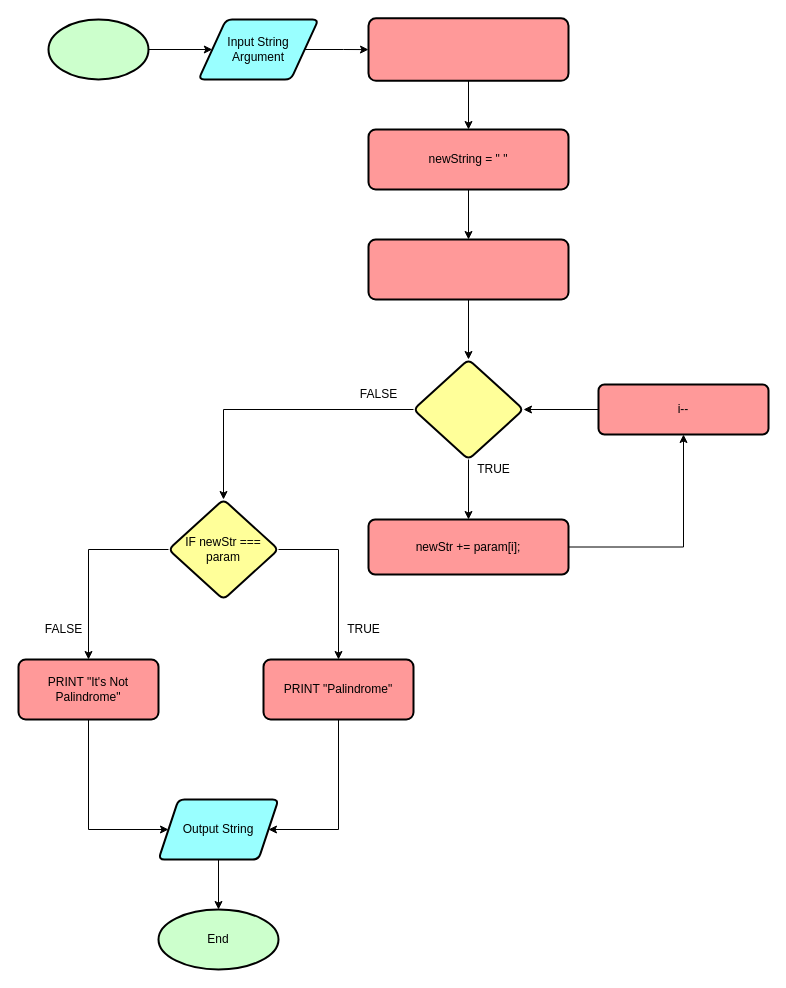
Some shapes in this 786 by 988 pixel diagram are drawn without their labels. The shapes that lost their labels are listed below. From the top down, each one's centre as x and y in pixels, then its label:
the point at 98,49: Start
the point at 468,49: FUNCTION (param) { }
the point at 468,269: LOOP (i=param.length-1) { }
the point at 468,409: i >= 0
